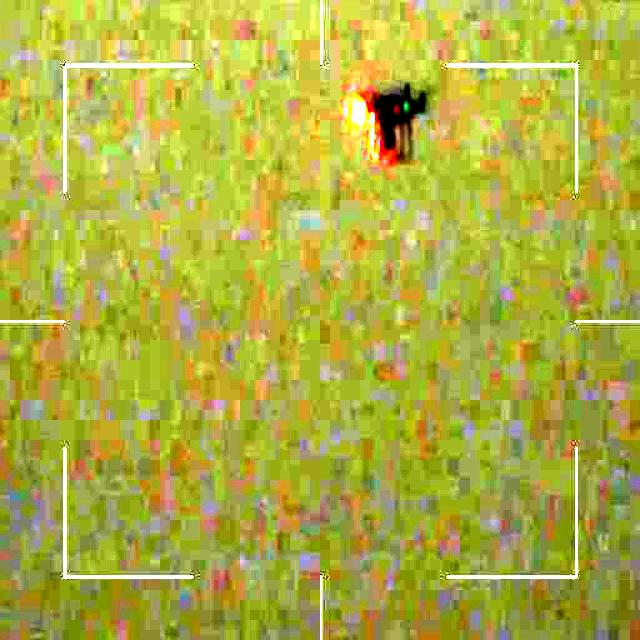bird: (341, 85, 435, 178)
